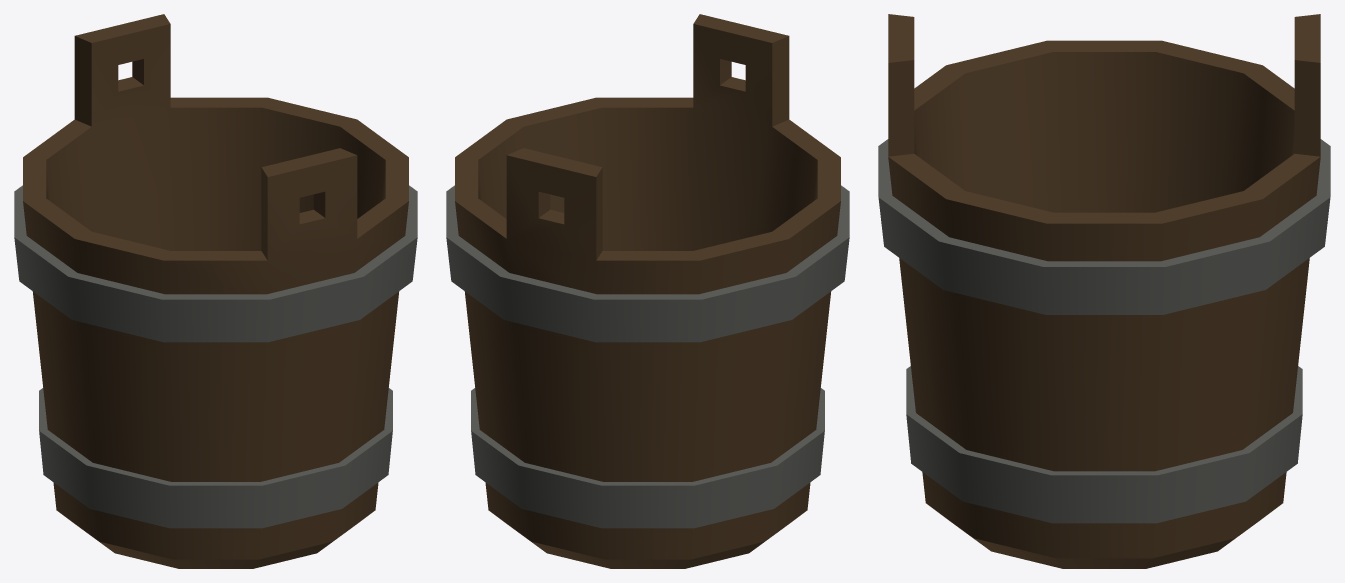
The model's file is Bucket.glb.
The picture shows the model from 3 angles, left to right: view 1: azimuth 30°, elevation 25°; view 2: azimuth 150°, elevation 25°; view 3: azimuth 270°, elevation 25°; orthographic projection. The views are drawn at different scales.
Parts seen in each view (by area): view 1: Bucket; view 2: Bucket; view 3: Bucket.
Part boxes in pixels (<box>): Bucket: <box>14,14,417,568</box>; Bucket: <box>446,14,849,568</box>; Bucket: <box>878,14,1330,568</box>.
Bounding box in the file's own units: 0.4809 × 0.5459 × 0.4809.
2 materials, 2 textured.
